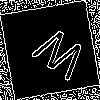W: (25, 25, 90, 90)
